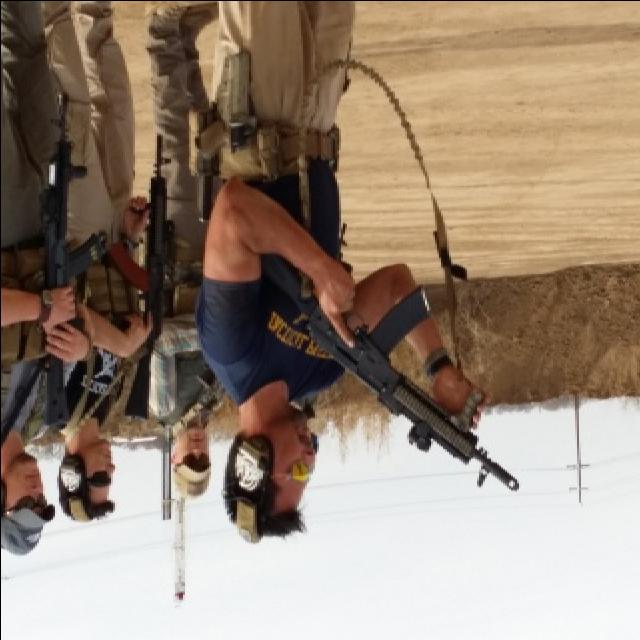rifle: (265, 246, 529, 512), (11, 89, 99, 439), (109, 140, 187, 354)
